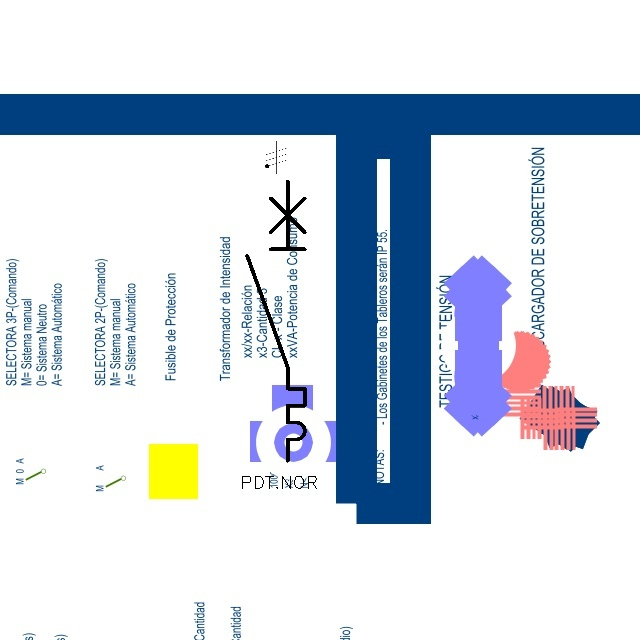interruptor_termomagnetico: (240, 174, 312, 468)
